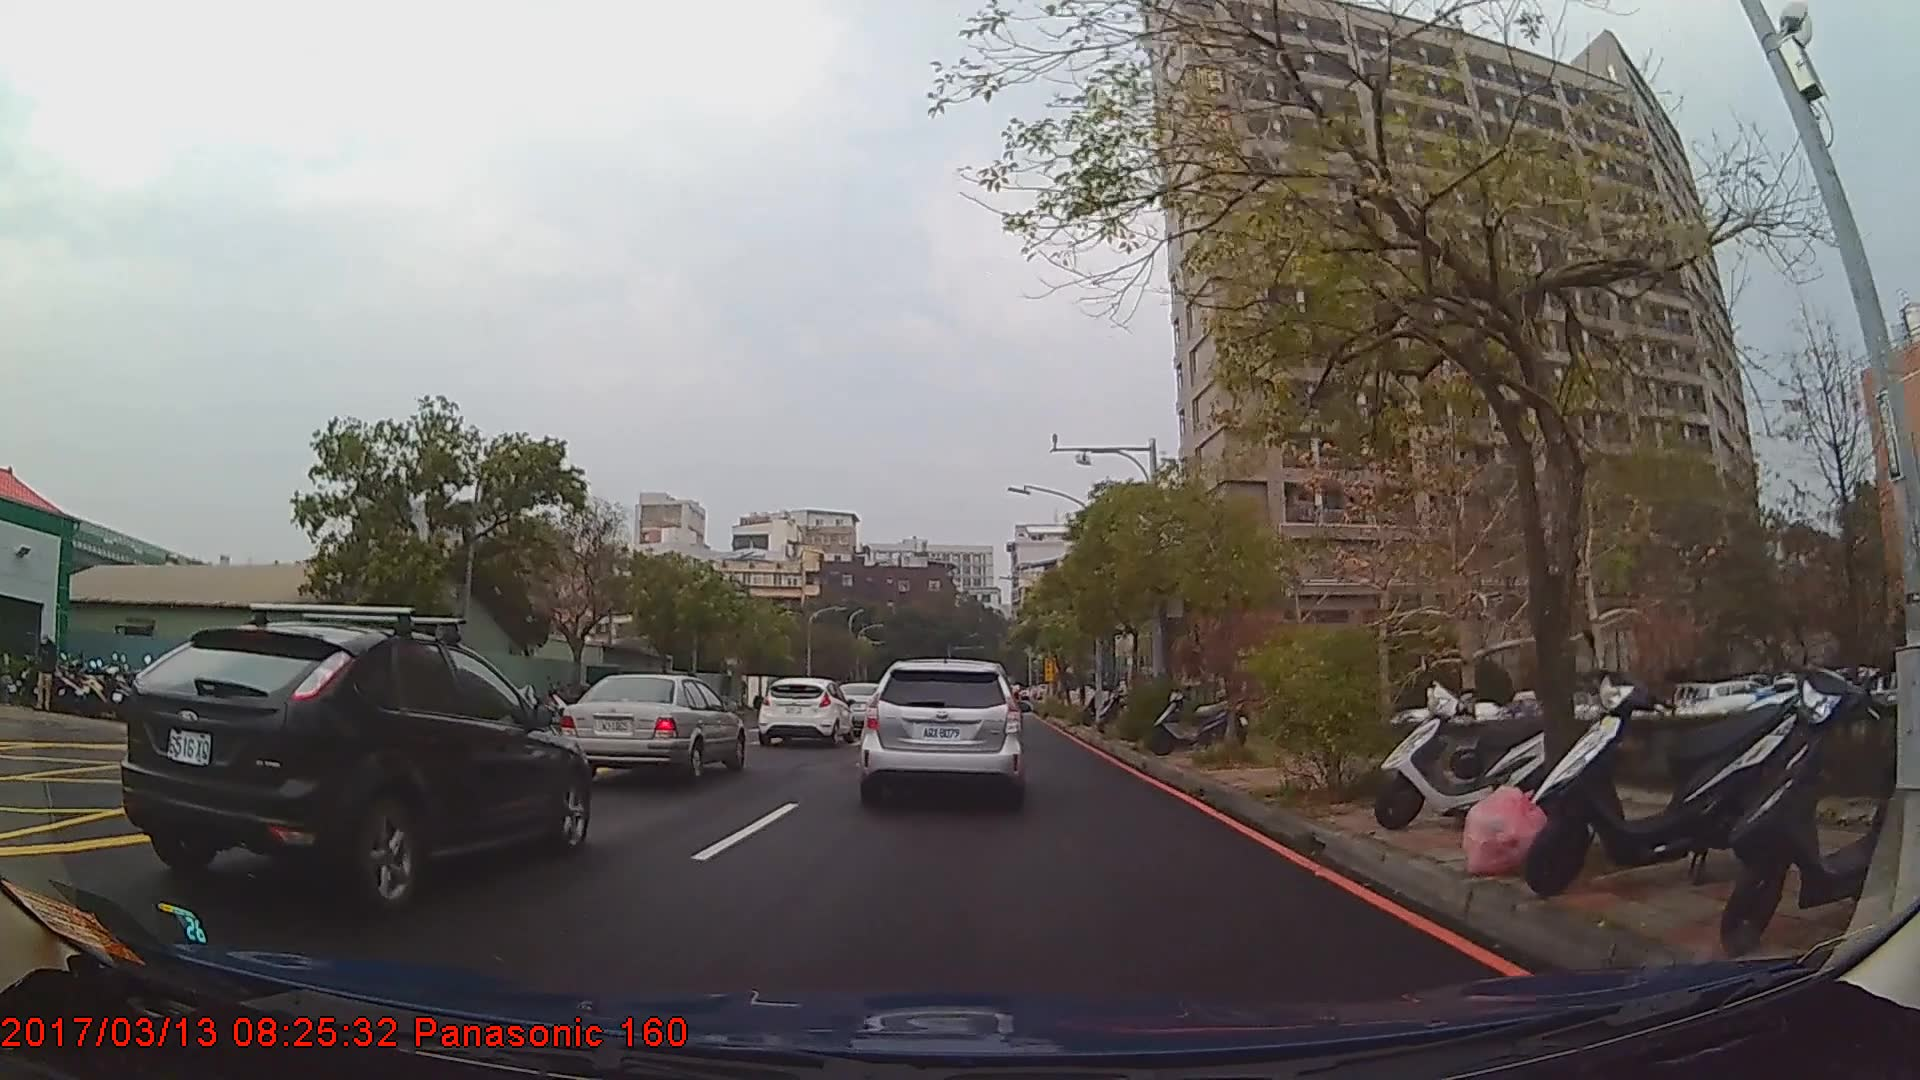pedestrian: (35, 632, 60, 713)
vehicle: (120, 620, 590, 911), (858, 654, 1021, 806), (554, 671, 746, 781), (754, 674, 853, 749)
